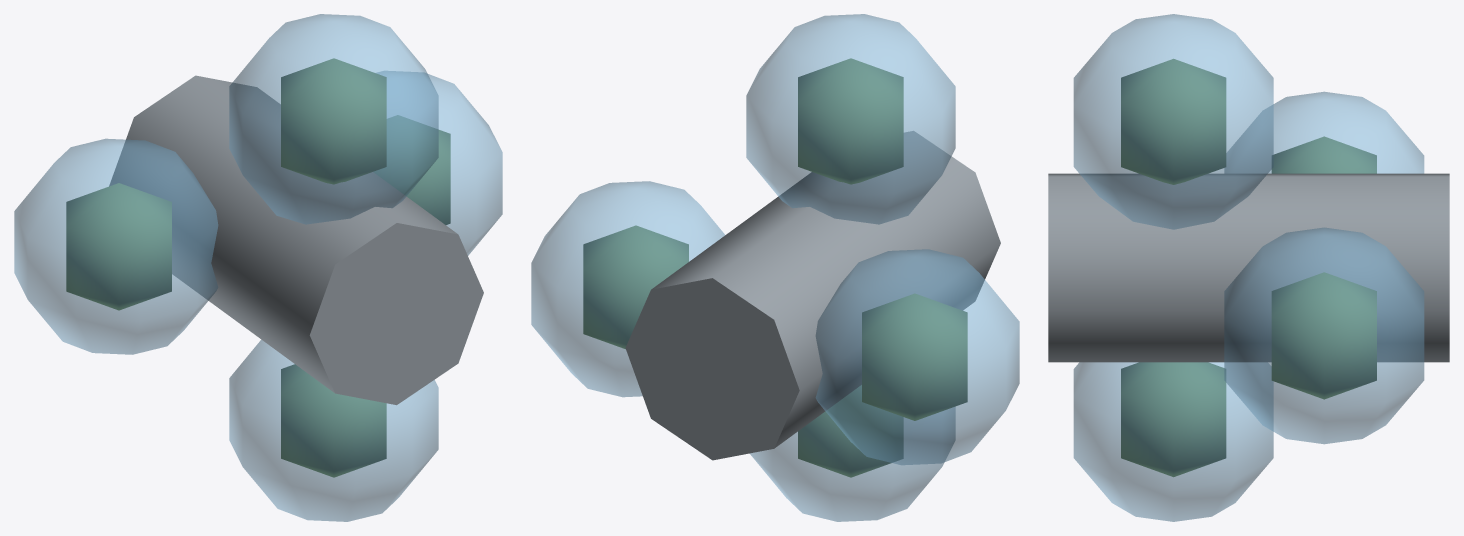
File: space_orbital_hydroponics_t2.glb
3 views of the same model, side by side, from view 1: azimuth 30°, elevation 25°; view 2: azimuth 150°, elevation 25°; view 3: azimuth 270°, elevation 25° (orthographic).
Parts seen in each view (by area): view 1: body; view 2: body; view 3: body.
Boxes of the visible parts, box(x1,y1,x2,y2) form: body: box(14, 14, 502, 521); body: box(531, 14, 1019, 521); body: box(1048, 14, 1449, 521).
Size of what is drawn, in the model's own units: 10.58 by 10.8 by 8.
